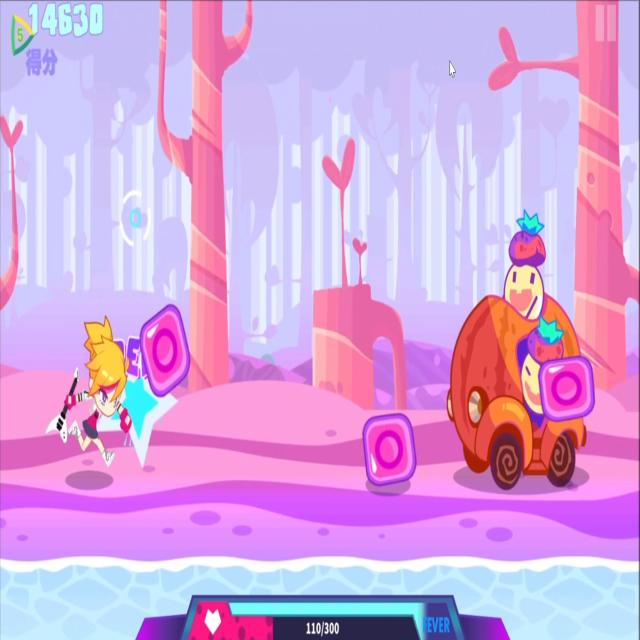kuai: (138, 300, 195, 400), (359, 405, 420, 496)
